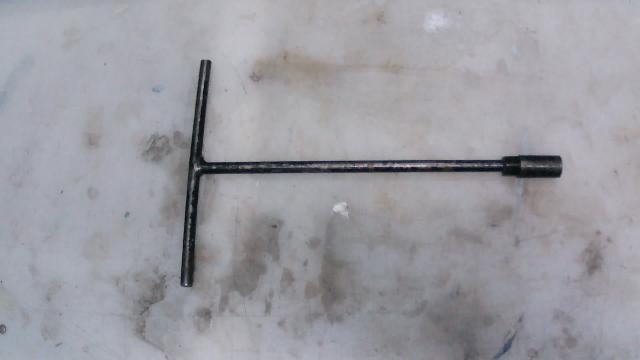kunci_t: (152, 27, 580, 335)
